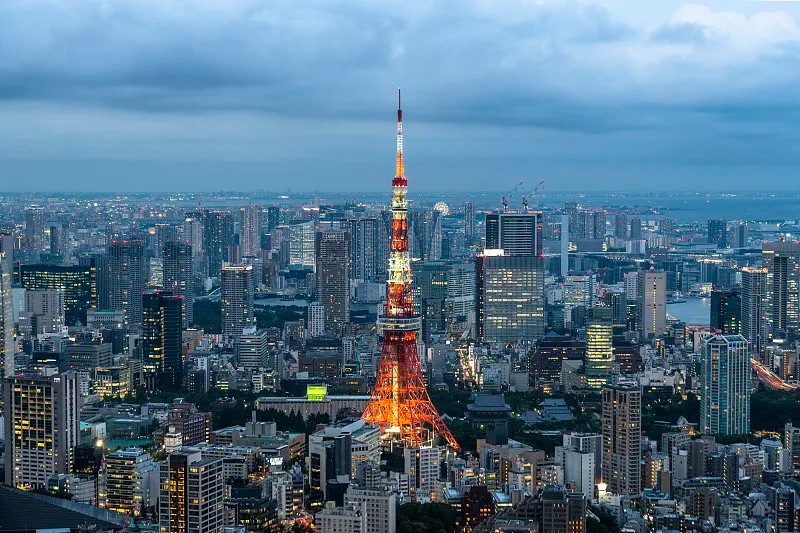Tokyo: (358, 88, 461, 458)
